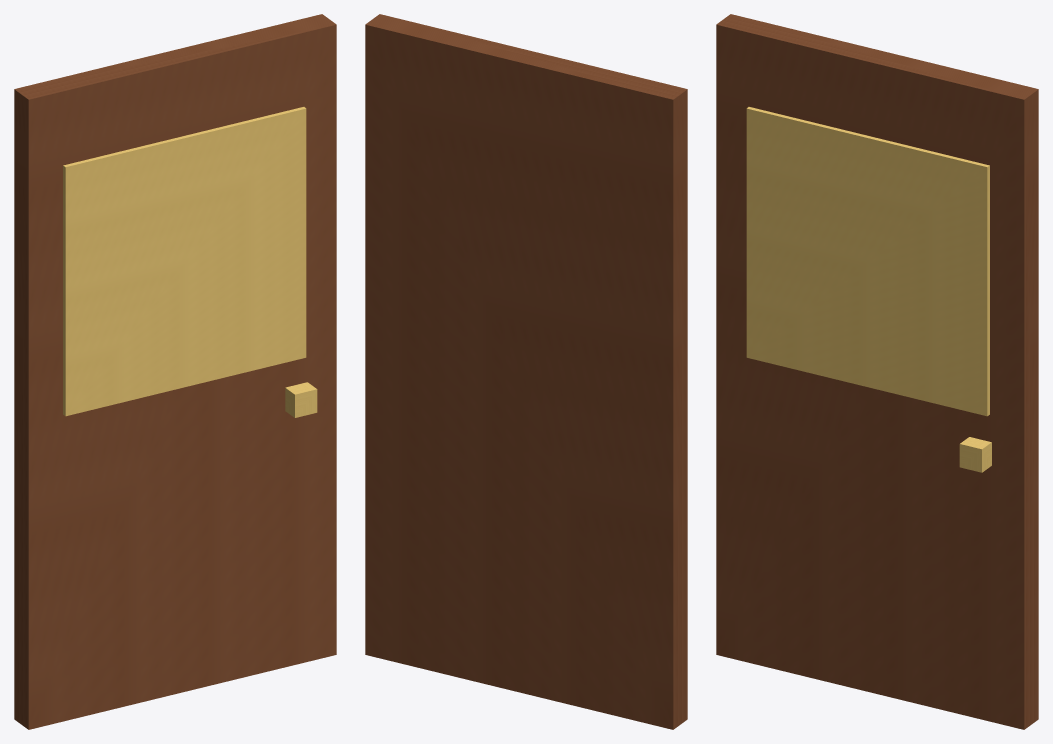
The model's file is door.glb.
3 renders of one model, left to right at view 1: azimuth 30°, elevation 25°; view 2: azimuth 150°, elevation 25°; view 3: azimuth 330°, elevation 25°, orthographic.
Visible parts, largest first — view 1: door; view 2: door; view 3: door.
Part boxes in pixels (x1=…): door: x1=14, y1=14, x2=336, y2=729; door: x1=365, y1=14, x2=687, y2=729; door: x1=716, y1=14, x2=1038, y2=729.
Size of the model in its own units: 1.1 by 2.15 by 0.16.
Materials: 1 (1 with a texture image).
